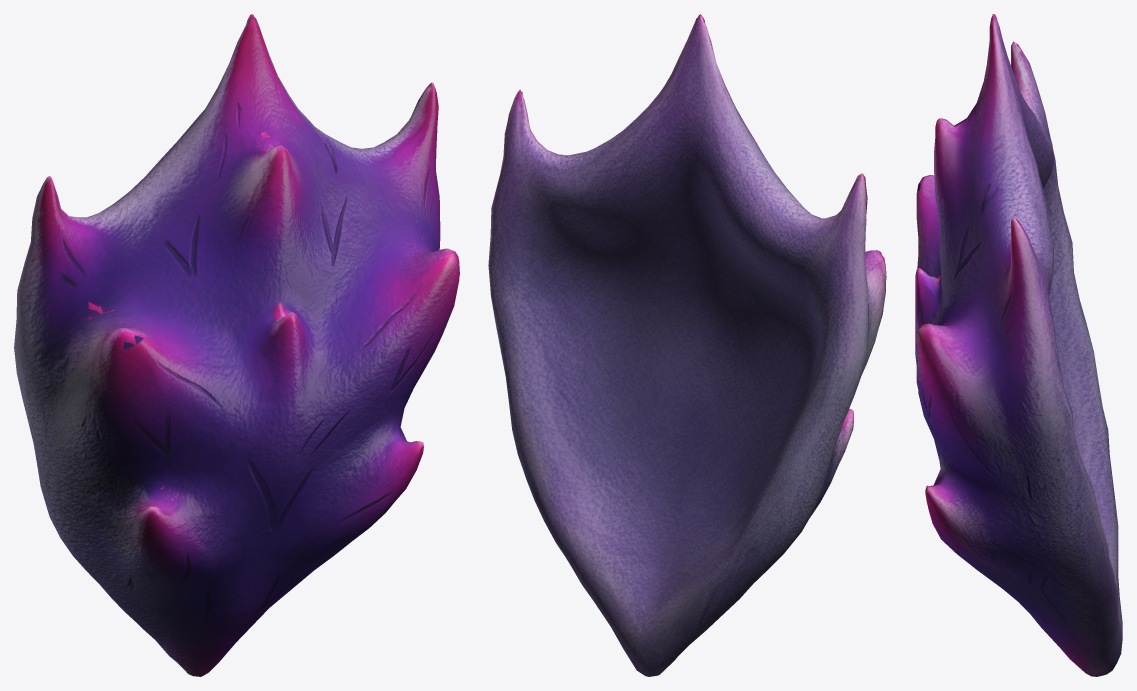
Rendered from escama 1.fbx.
The picture shows the model from 3 angles, left to right: view 1: azimuth 30°, elevation 25°; view 2: azimuth 150°, elevation 25°; view 3: azimuth 270°, elevation 25°; orthographic projection. The views are drawn at different scales.
Visible parts, largest first — view 1: escama; view 2: escama; view 3: escama.
Part boxes in pixels (<box>): escama: <box>14,14,459,676</box>; escama: <box>488,14,886,676</box>; escama: <box>915,14,1122,676</box>.
Size of the model in its own units: 33.96 by 54.75 by 15.54.
